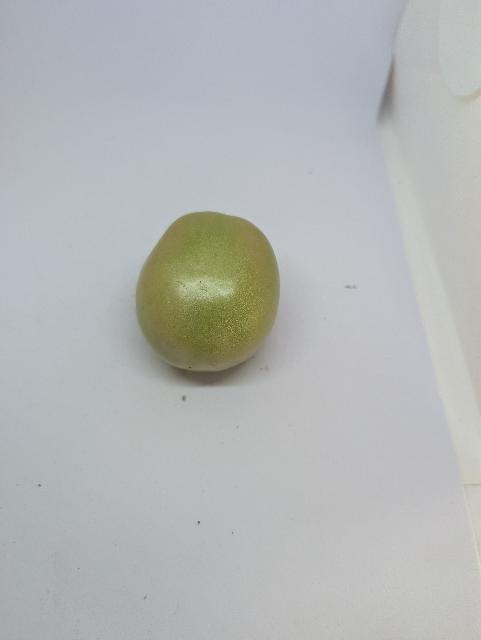green: (132, 207, 283, 374)
